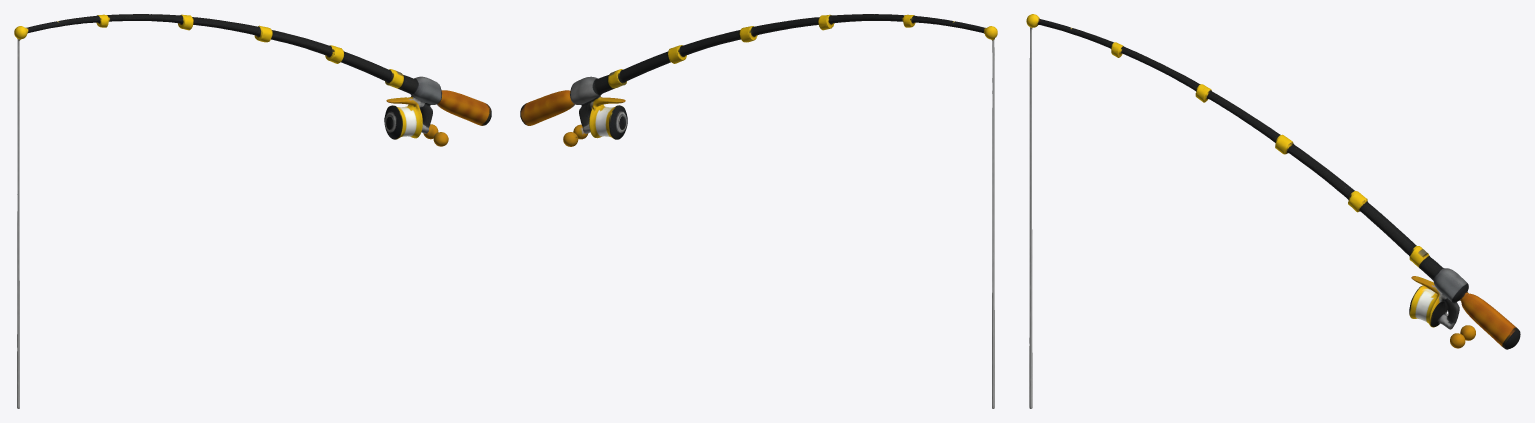
Rendered from vara.glb.
The picture shows the model from 3 angles, left to right: view 1: azimuth 30°, elevation 25°; view 2: azimuth 150°, elevation 25°; view 3: azimuth 330°, elevation 25°; orthographic projection. The views are drawn at different scales.
Size of the model in its own units: 1.89 by 1.45 by 0.124.
Materials: 1 (1 with a texture image).
